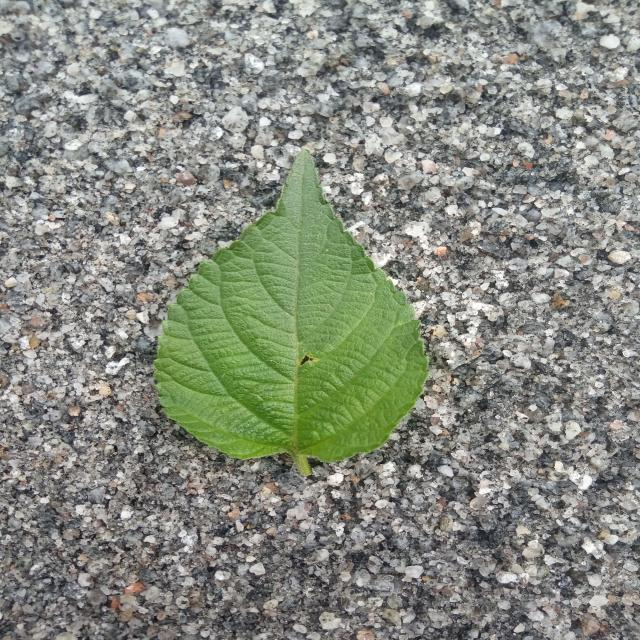Lantana: (155, 151, 428, 475)
